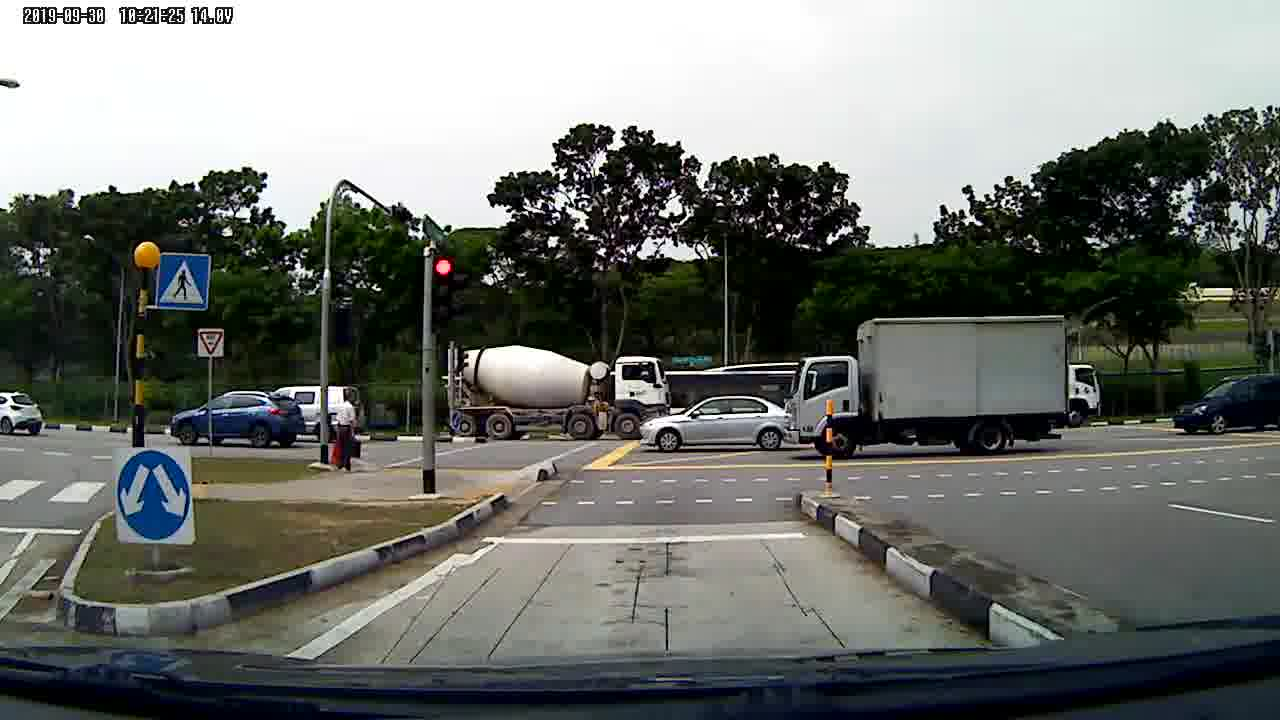car: (638, 399, 792, 455), (168, 392, 305, 444), (1168, 377, 1280, 440), (1, 389, 47, 439)
